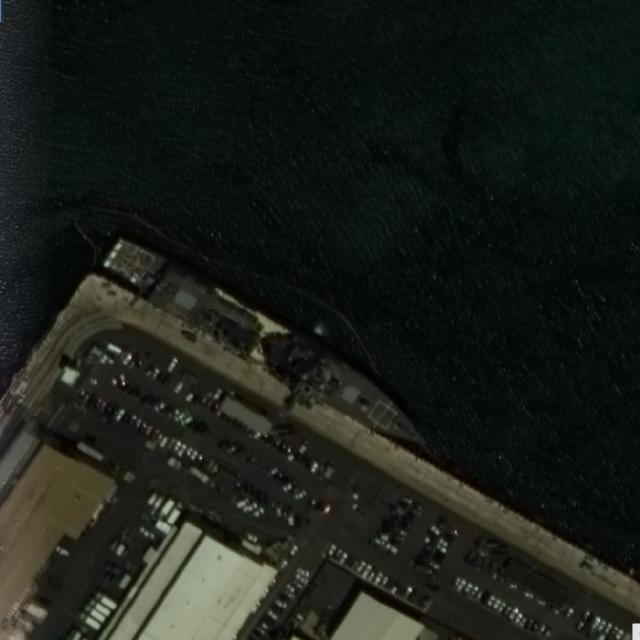Destroyer: (95, 236, 442, 456)
